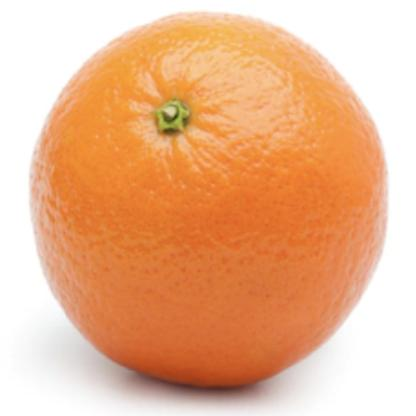fresh: (29, 13, 392, 397)
